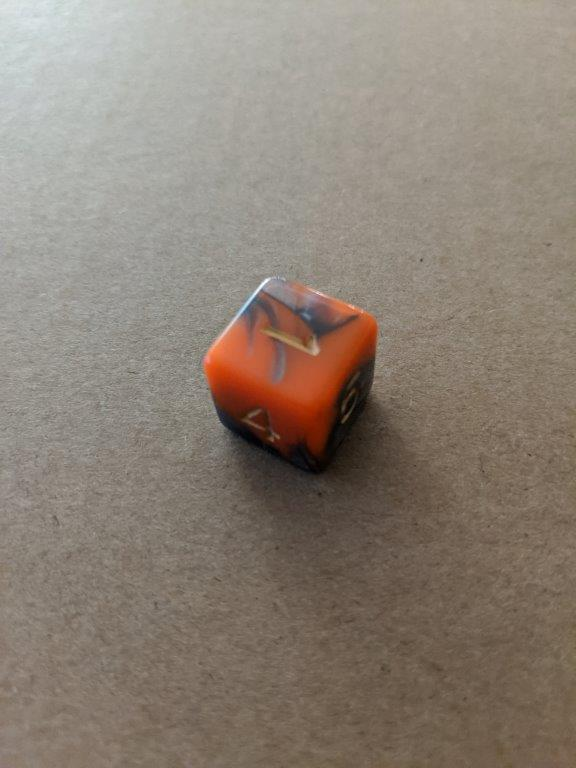d6-1: (204, 274, 379, 478)
